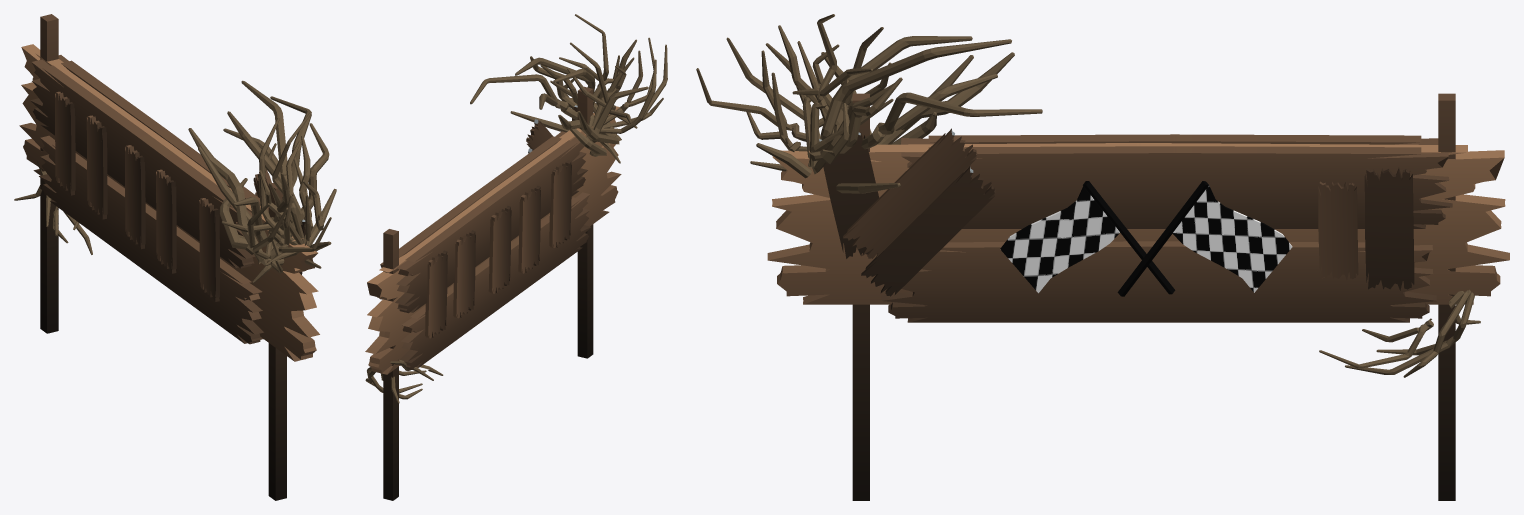
File: LINHA DE CHEGADA definitiva (1).fbx
The picture shows the model from 3 angles, left to right: view 1: azimuth 30°, elevation 25°; view 2: azimuth 150°, elevation 25°; view 3: azimuth 270°, elevation 25°; orthographic projection. The views are drawn at different scales.
Visible parts, largest first — view 1: arco, m8, m9, base, estacas, m1, m13, m14, m11, m12, m10; view 2: arco, m9, m8, base, estacas, m1, m12, m13, m14, m11, m10, m3; view 3: m2, m1, base, arco, estacas, m3, b1, m4, b2, m5, m9, m6 (+3 smaller).
Boxes of the visible parts, box(x1,y1,x2,y2) form: arco: box(14, 80, 336, 283); m8: box(39, 135, 263, 344); m9: box(30, 59, 254, 268); base: box(19, 44, 319, 361); estacas: box(40, 14, 286, 500); m1: box(58, 55, 268, 211); m13: box(156, 169, 176, 273); m14: box(199, 198, 219, 301); m11: box(86, 115, 107, 219); m12: box(124, 145, 145, 249); m10: box(55, 91, 75, 195); arco: box(365, 14, 667, 403); m9: box(395, 137, 587, 313); m8: box(400, 192, 590, 369); base: box(365, 106, 621, 374); estacas: box(383, 86, 593, 500); m1: box(379, 131, 566, 299); m12: box(488, 206, 511, 293); m13: box(518, 185, 540, 273); m14: box(549, 160, 571, 248); m11: box(453, 230, 475, 318); m10: box(425, 250, 447, 338); m3: box(526, 119, 552, 150); m2: box(881, 241, 1436, 322); m1: box(901, 146, 1452, 228); base: box(767, 143, 1509, 304); arco: box(696, 14, 1480, 377); estacas: box(852, 93, 1455, 500); m3: box(843, 128, 977, 258); b1: box(1172, 185, 1292, 292); m4: box(861, 166, 995, 296); b2: box(1000, 186, 1119, 293); m5: box(1364, 168, 1414, 290); m9: box(901, 134, 1438, 144); m6: box(1318, 181, 1358, 279).
Bounding box in the file's own units: 472 × 1294 × 1919.
Materials: 19 (13 with a texture image).
